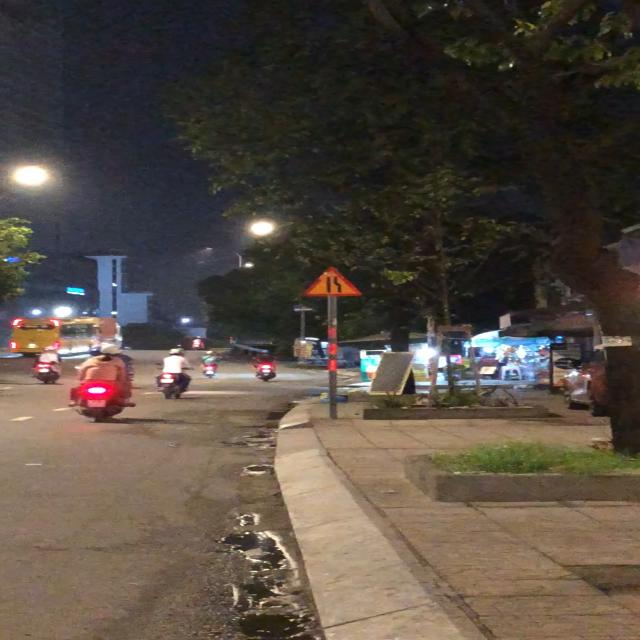Bien bao duong bi thu hep: (296, 264, 369, 298)
